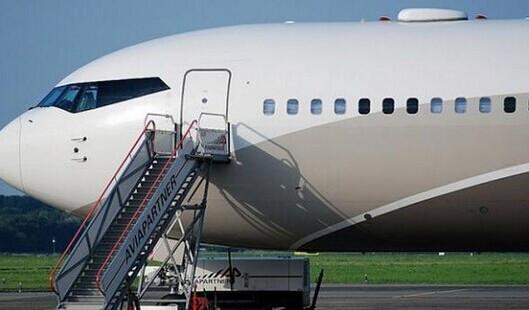airplane: (1, 11, 529, 252)
